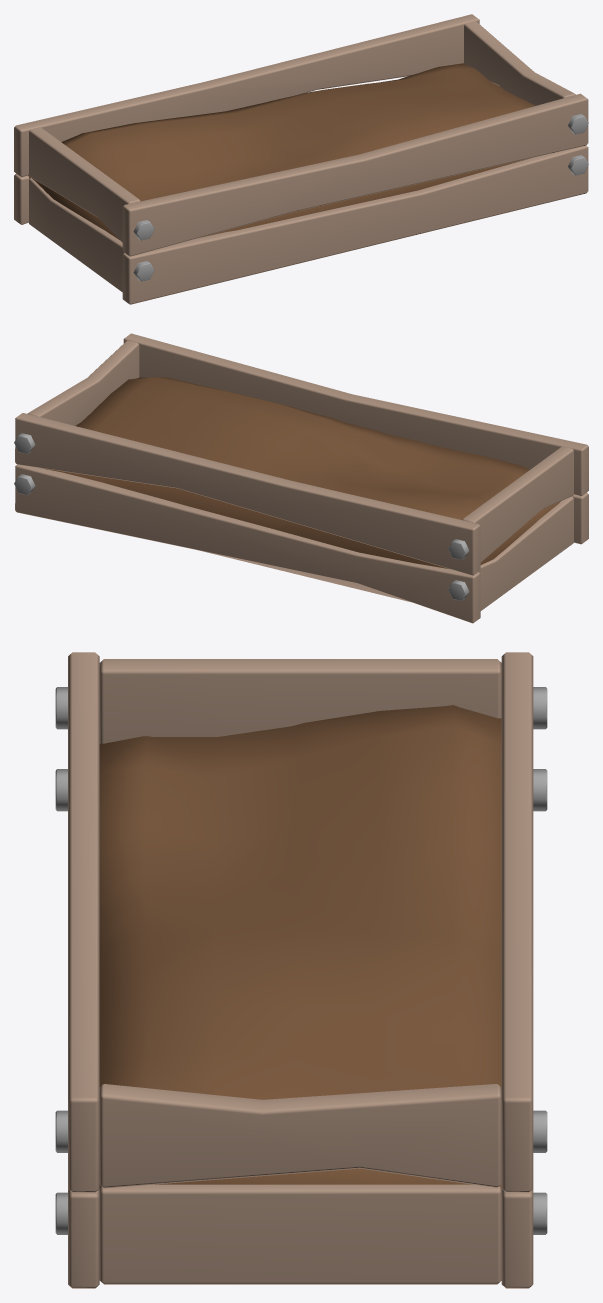
Rendered from Garden_1.glb.
3 renders of one model, top to bottom at view 1: azimuth 30°, elevation 25°; view 2: azimuth 150°, elevation 25°; view 3: azimuth 270°, elevation 25°, orthographic. The views are drawn at different scales.
Visible parts, largest first — view 1: Garden_1; view 2: Garden_1; view 3: Garden_1.
Boxes of the visible parts, x1,y1,x2,y2 form: Garden_1: [14, 14, 588, 304]; Garden_1: [14, 333, 588, 623]; Garden_1: [55, 652, 547, 1288].
Bounding box in the file's own units: 1.63 × 0.3249 × 0.7568.
Materials: 1 (1 with a texture image).
